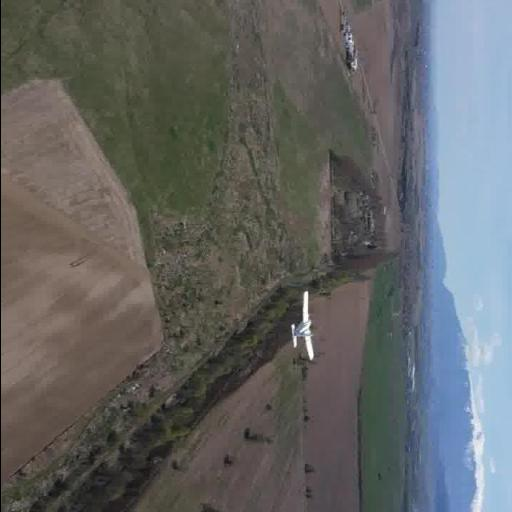uav: (282, 288, 320, 363)
